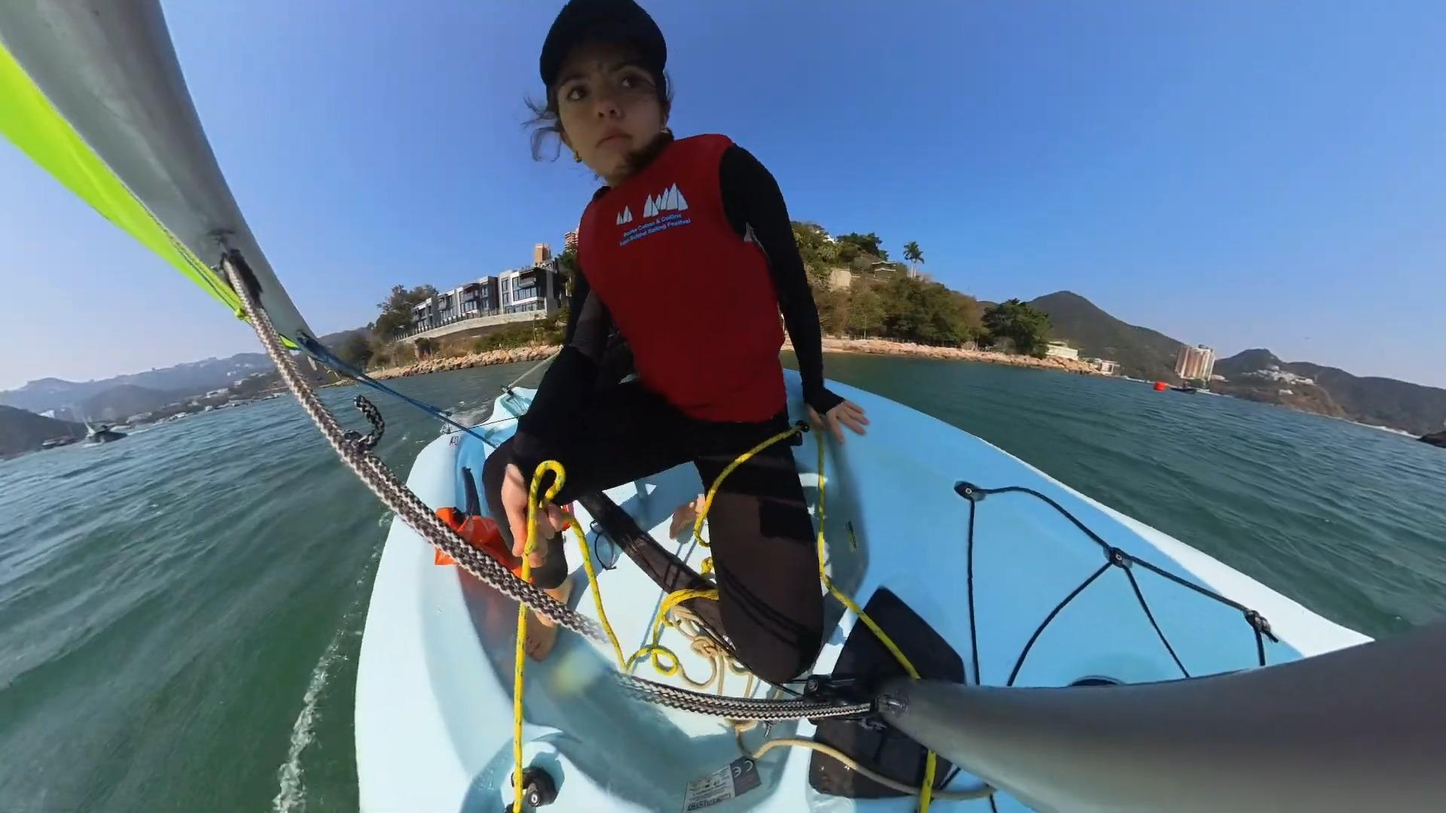boat: (0, 0, 1446, 813)
land: (791, 223, 1446, 449), (0, 354, 291, 460), (320, 267, 567, 379), (291, 350, 356, 388)
person: (484, 0, 868, 674)
sea: (825, 355, 1446, 641), (0, 393, 395, 813), (317, 363, 548, 483)
sky: (636, 0, 1446, 388), (154, 0, 600, 334), (0, 139, 258, 396)
